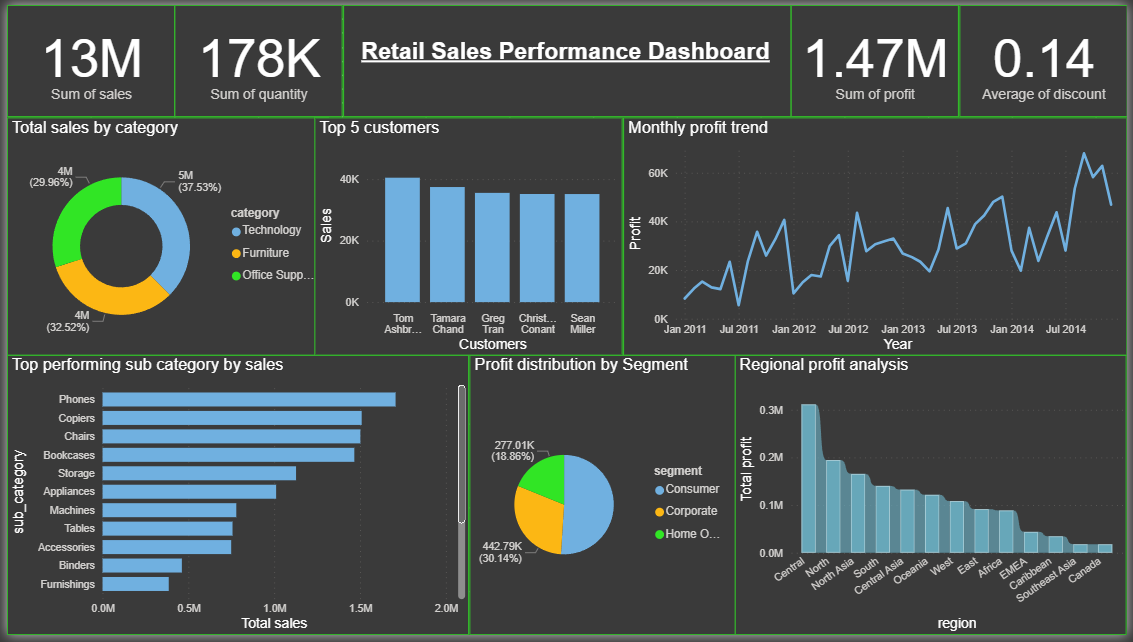

Layout of this report page (visuals, bound fields, positions):
{"tool":"powerbi","page":{"name":"Page 1","canvas":[1280,720],"ordinal":0},"visuals":[{"type":"barChart","title":"Top performing sub category by sales","fields":{"Category":["Cleaned_SuperStoreOrders.sub_category"],"Y":["Sum(Cleaned_SuperStoreOrders.sales)"]},"box":[0,400,528,320],"z":0},{"type":"lineChart","title":" Monthly profit trend","fields":{"Category":["Cleaned_SuperStoreOrders.order_date.Variation.Date Hierarchy.Year","Cleaned_SuperStoreOrders.order_date.Variation.Date Hierarchy.Month"],"Y":["Sum(Cleaned_SuperStoreOrders.profit)"]},"box":[704,128,576,272],"z":1000},{"type":"card","fields":{"Values":["Sum(Cleaned_SuperStoreOrders.sales)"]},"box":[0,0,192,128],"z":2000},{"type":"card","fields":{"Values":["Sum(Cleaned_SuperStoreOrders.profit)"]},"box":[896,0,192,128],"z":3000},{"type":"card","fields":{"Values":["Avg(Cleaned_SuperStoreOrders.discount)"]},"box":[1088,0,192,128],"z":4000},{"type":"card","fields":{"Values":["Sum(Cleaned_SuperStoreOrders.quantity)"]},"box":[192,0,192,128],"z":5000},{"type":"ribbonChart","title":"Regional profit analysis","fields":{"Category":["Cleaned_SuperStoreOrders.region"],"Y":["Sum(Cleaned_SuperStoreOrders.profit)"]},"box":[832,400,448,320],"z":6000},{"type":"donutChart","title":"Total sales by category","fields":{"Category":["Cleaned_SuperStoreOrders.category"],"Y":["Sum(Cleaned_SuperStoreOrders.sales)"]},"box":[0,128,368,272],"z":7000},{"type":"columnChart","title":"Top 5 customers","fields":{"Category":["Cleaned_SuperStoreOrders.customer_name"],"Y":["Sum(Cleaned_SuperStoreOrders.sales)"]},"box":[352,128,352,272],"z":8000},{"type":"pieChart","title":"Profit distribution by Segment","fields":{"Category":["Cleaned_SuperStoreOrders.segment"],"Y":["Sum(Cleaned_SuperStoreOrders.profit)"]},"box":[528,400,304,320],"z":9000},{"type":"textbox","box":[384,0,512,128],"z":9001}]}

Visuals, with their boxes in screenshot pixels (x1, y1, x2, y2), scaled from the page's 1280x720 canvas onto the 1133x642 screenshot:
"Top performing sub category by sales" barChart: (0,357,467,641)
" Monthly profit trend" lineChart: (623,114,1132,357)
card - Sum(Cleaned_SuperStoreOrders.sales): (0,0,170,114)
card - Sum(Cleaned_SuperStoreOrders.profit): (793,0,963,114)
card - Avg(Cleaned_SuperStoreOrders.discount): (963,0,1132,114)
card - Sum(Cleaned_SuperStoreOrders.quantity): (170,0,340,114)
"Regional profit analysis" ribbonChart: (736,357,1132,641)
"Total sales by category" donutChart: (0,114,326,357)
"Top 5 customers" columnChart: (312,114,623,357)
"Profit distribution by Segment" pieChart: (467,357,736,641)
textbox: (340,0,793,114)
